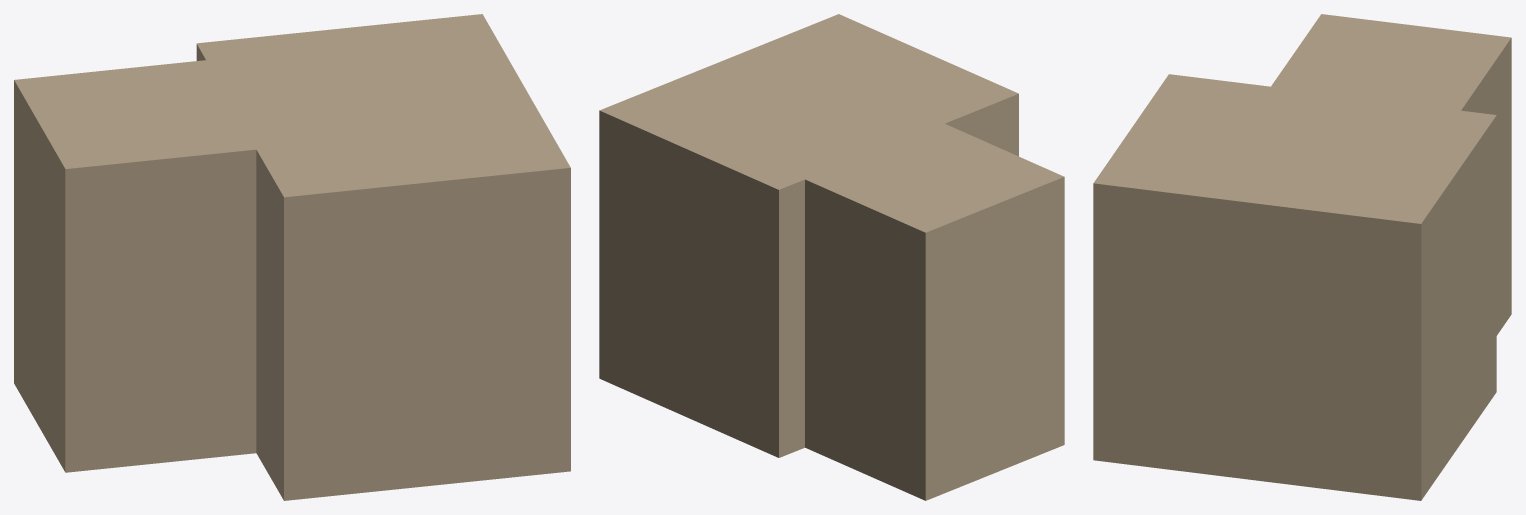
The model's file is bld_108400871.dae.
The picture shows the model from 3 angles, left to right: view 1: azimuth 30°, elevation 25°; view 2: azimuth 150°, elevation 25°; view 3: azimuth 270°, elevation 25°; orthographic projection. The views are drawn at different scales.
Parts seen in each view (by area): view 1: bld_108400871; view 2: bld_108400871; view 3: bld_108400871.
Boxes of the visible parts, left/top/right/bottom form: bld_108400871: left=14, top=14, right=570, bottom=500; bld_108400871: left=599, top=14, right=1064, bottom=500; bld_108400871: left=1093, top=14, right=1511, bottom=500.
Bounding box in the file's own units: 13.01 × 10.95 × 8.
